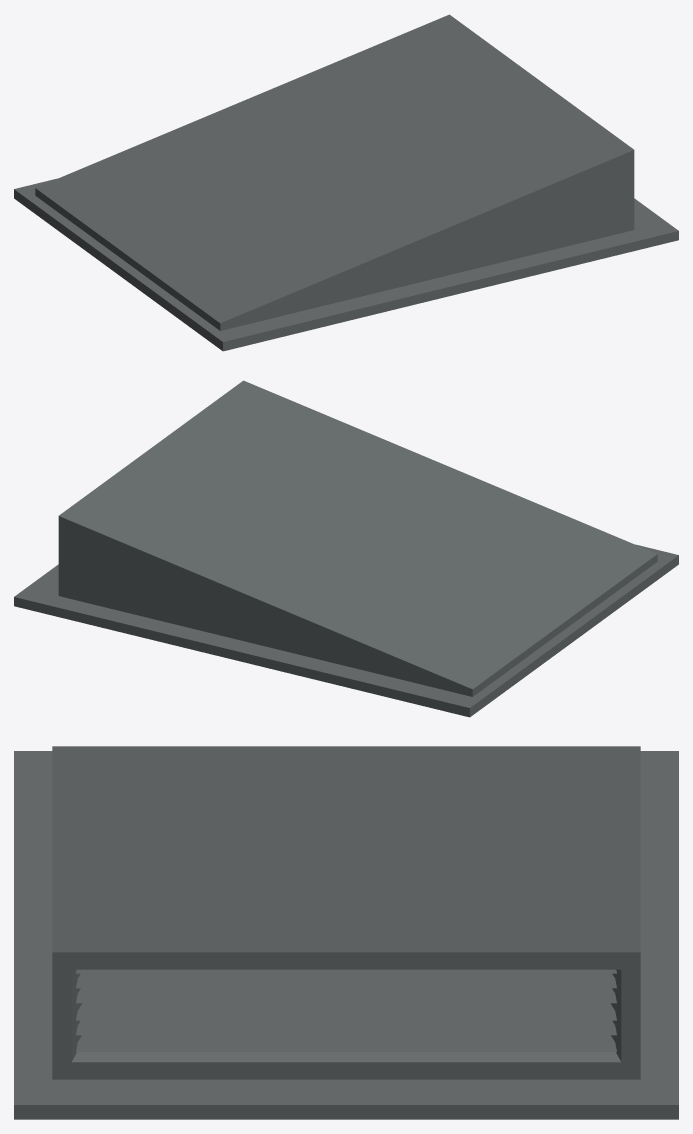
File: SM_vent_01.fbx
3 renders of one model, top to bottom at view 1: azimuth 30°, elevation 25°; view 2: azimuth 150°, elevation 25°; view 3: azimuth 270°, elevation 25°, orthographic. The views are drawn at different scales.
Visible parts, largest first — view 1: vent_01; view 2: vent_01; view 3: vent_01.
Boxes of the visible parts, box(x1,y1,x2,y2) form: vent_01: box(14, 14, 678, 351); vent_01: box(14, 380, 678, 717); vent_01: box(14, 746, 678, 1119).
Bounding box in the file's own units: 289 × 54.25 × 230.
